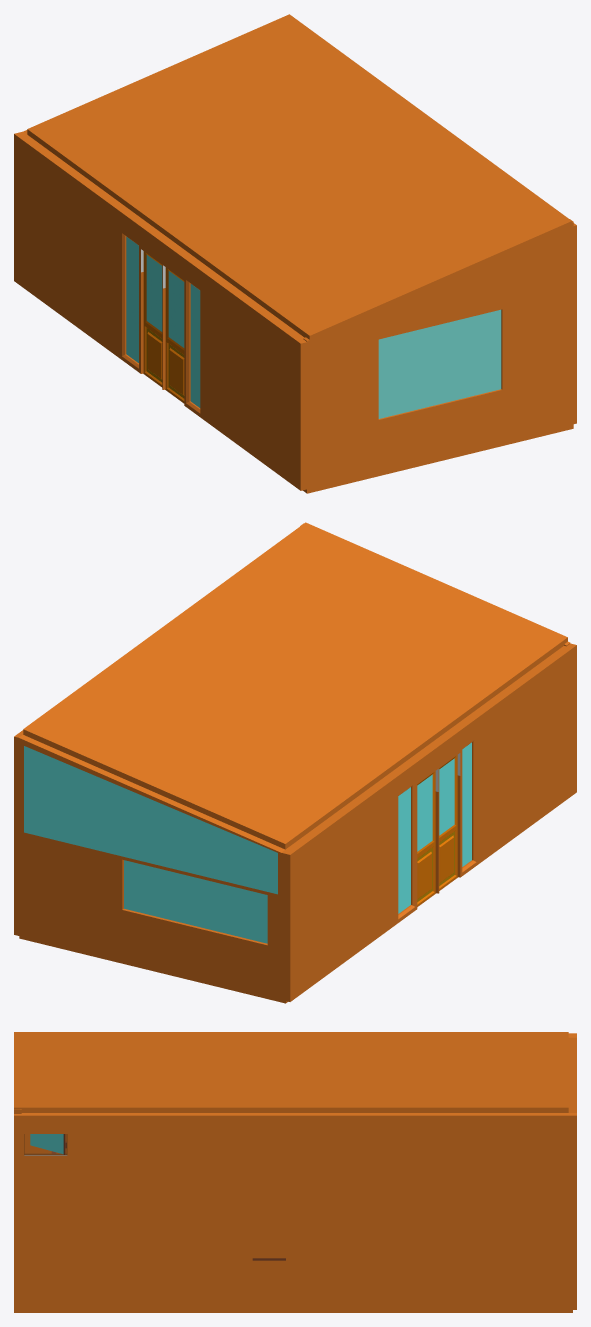
The model's file is Cena-01.fbx.
3 views of the same model, one above another, from view 1: azimuth 30°, elevation 25°; view 2: azimuth 150°, elevation 25°; view 3: azimuth 270°, elevation 25° (orthographic).
Visible parts, largest first — view 1: Wall.001, Floor.001, Wall, Door-02, Door-01, Floor; view 2: Wall.001, Wall, Door-02, Door-01, Floor; view 3: Wall, Wall.001, Floor, Window-02.
Part boxes in pixels (x1=…): Wall.001: x1=27, y1=14, x2=571, y2=340; Floor.001: x1=303, y1=219, x2=573, y2=493; Wall: x1=14, y1=130, x2=576, y2=490; Door-02: x1=165, y1=267, x2=184, y2=402; Door-01: x1=143, y1=251, x2=162, y2=386; Floor: x1=143, y1=373, x2=573, y2=493; Wall.001: x1=23, y1=522, x2=567, y2=849; Wall: x1=14, y1=643, x2=576, y2=1001; Door-02: x1=439, y1=755, x2=457, y2=889; Door-01: x1=417, y1=771, x2=435, y2=906; Floor: x1=19, y1=877, x2=457, y2=1003; Wall: x1=14, y1=1033, x2=576, y2=1309; Wall.001: x1=14, y1=1032, x2=568, y2=1112; Floor: x1=14, y1=1310, x2=572, y2=1312; Window-02: x1=30, y1=1134, x2=65, y2=1154.
Size of the model in its own units: 11722 by 8439 by 21067.
